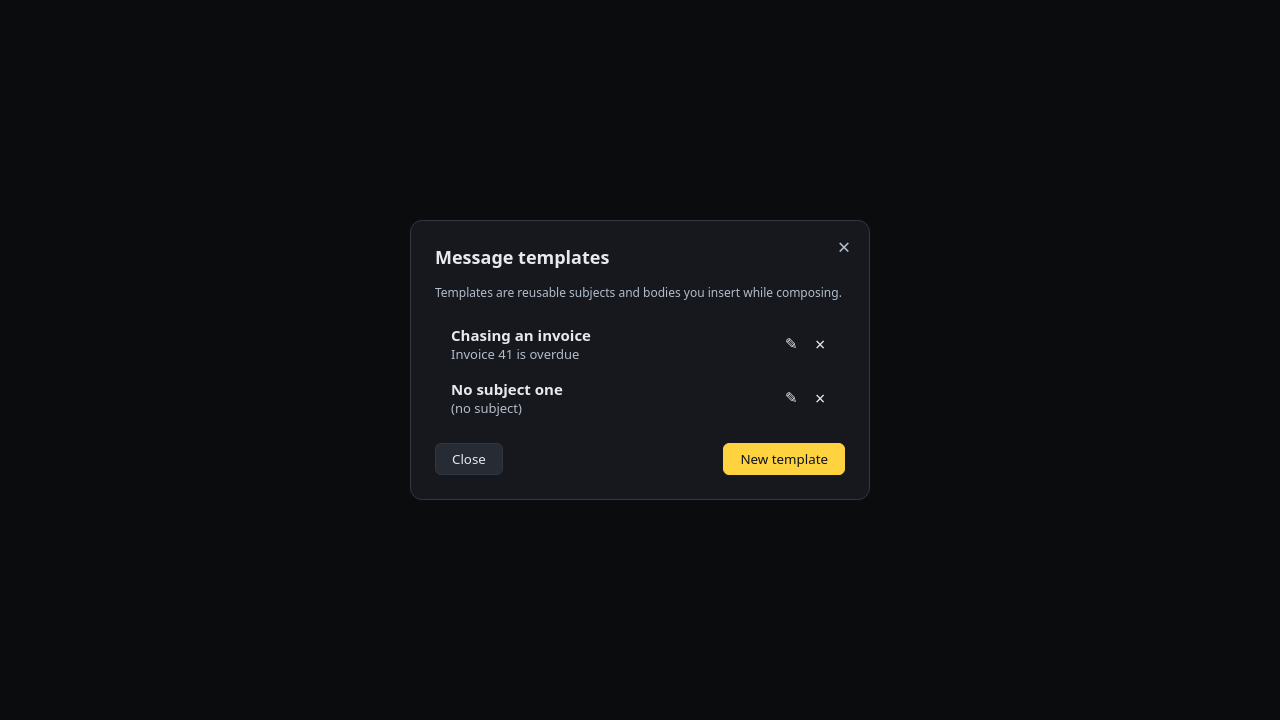
Scenario: TemplateManagerModal › loads a template into the form when its pencil is clicked
The width and height of the screenshot is (1280, 720).
Click the button named "Edit Chasing an invoice" at [790, 344], box x1=779 y1=333 x2=801 y2=355
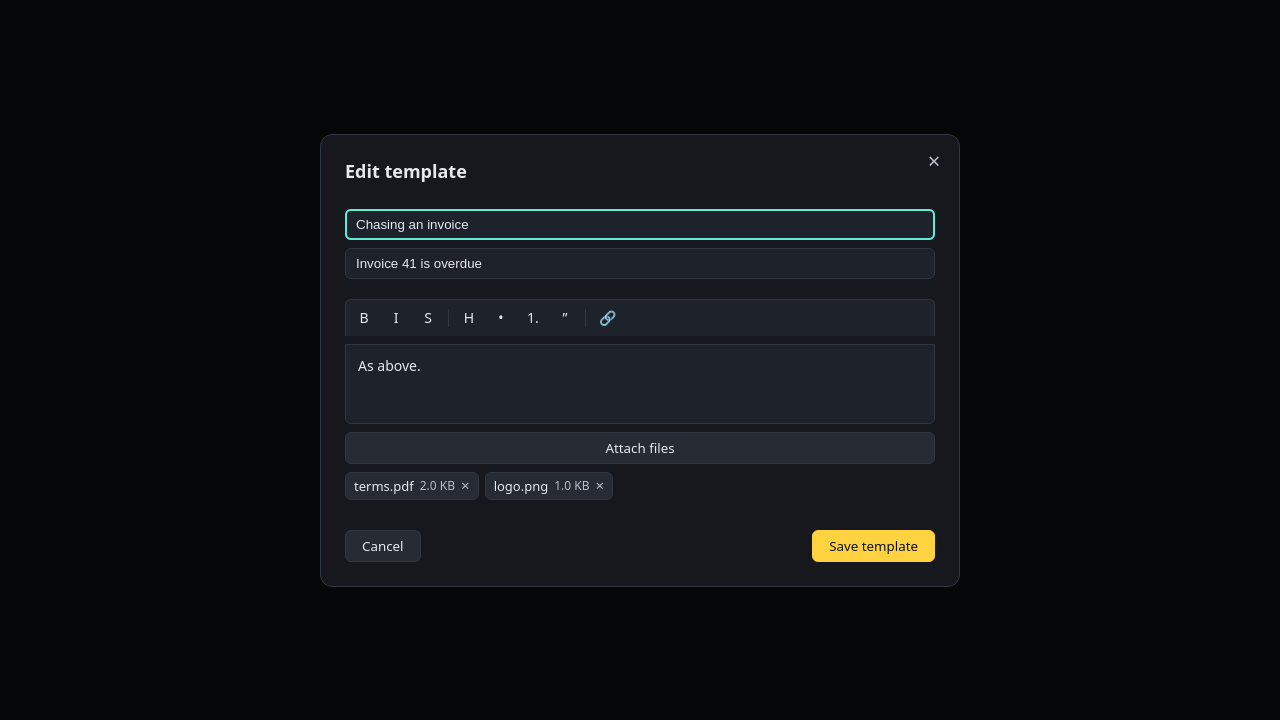
Now the 1st field showing "Chasing an invoice" is shown, box x1=345 y1=208 x2=935 y2=240
Now the 2nd field showing "Invoice 41 is overdue" is shown, box x1=345 y1=248 x2=935 y2=278
Now the button "Save template" is shown, box x1=812 y1=530 x2=935 y2=562
